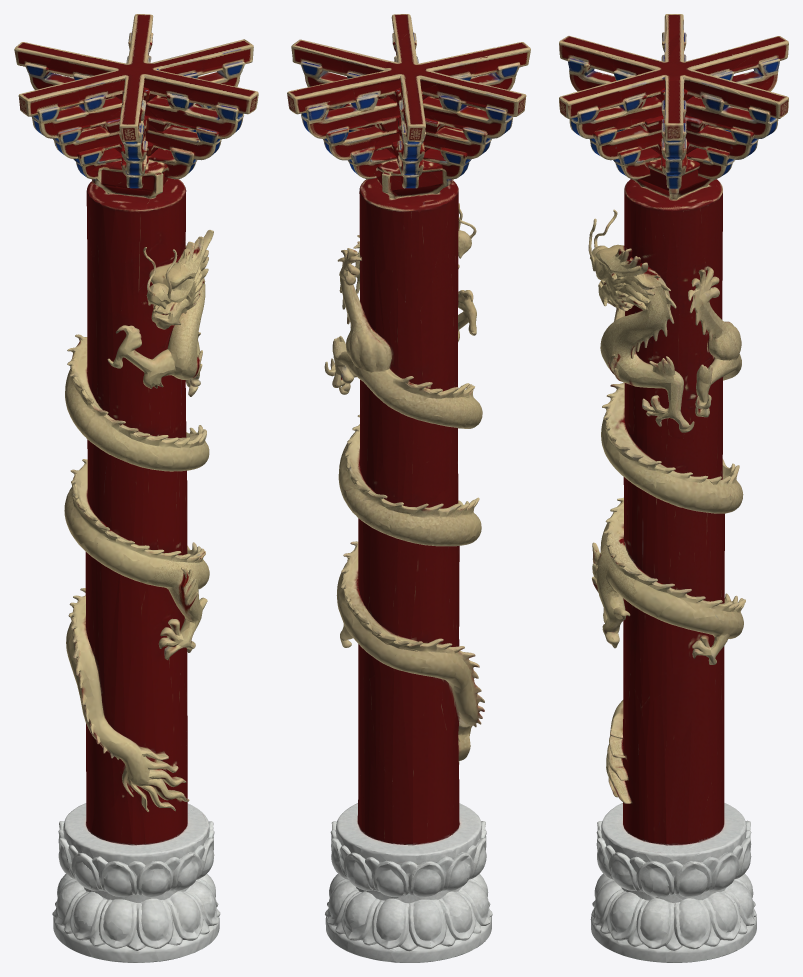
File: dragon_pillar.glb
The picture shows the model from 3 angles, left to right: view 1: azimuth 30°, elevation 25°; view 2: azimuth 150°, elevation 25°; view 3: azimuth 270°, elevation 25°; orthographic projection.
Parts seen in each view (by area): view 1: Mesh_0; view 2: Mesh_0; view 3: Mesh_0.
Part boxes in pixels (x1,y1,x2,y2): Mesh_0: (14,14,258,962); Mesh_0: (287,14,530,962); Mesh_0: (559,14,788,962).
Bounding box in the file's own units: 1.8 × 6.5 × 1.58.
Materials: 1 (1 with a texture image).
